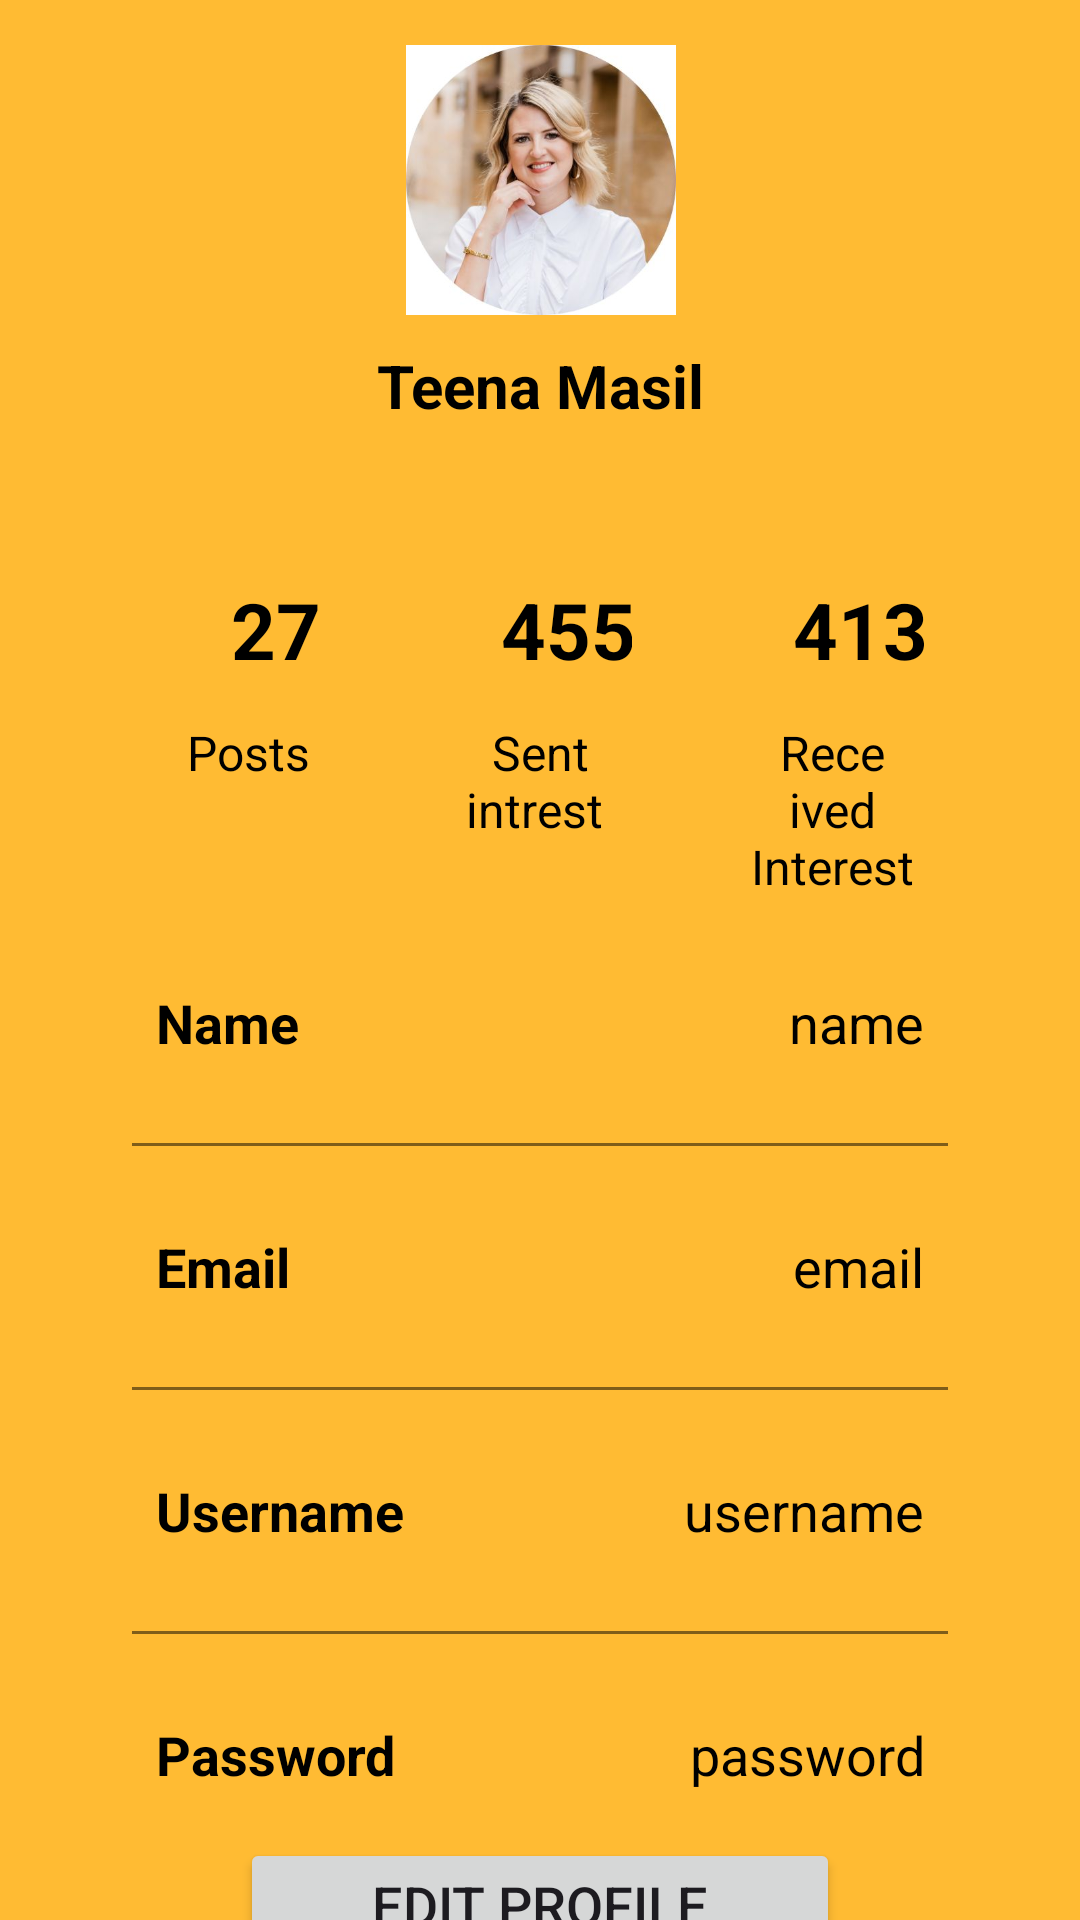

Icon click points for this 1080*1920 phone screenshot, format [x,y]:
profile: [541,180]
